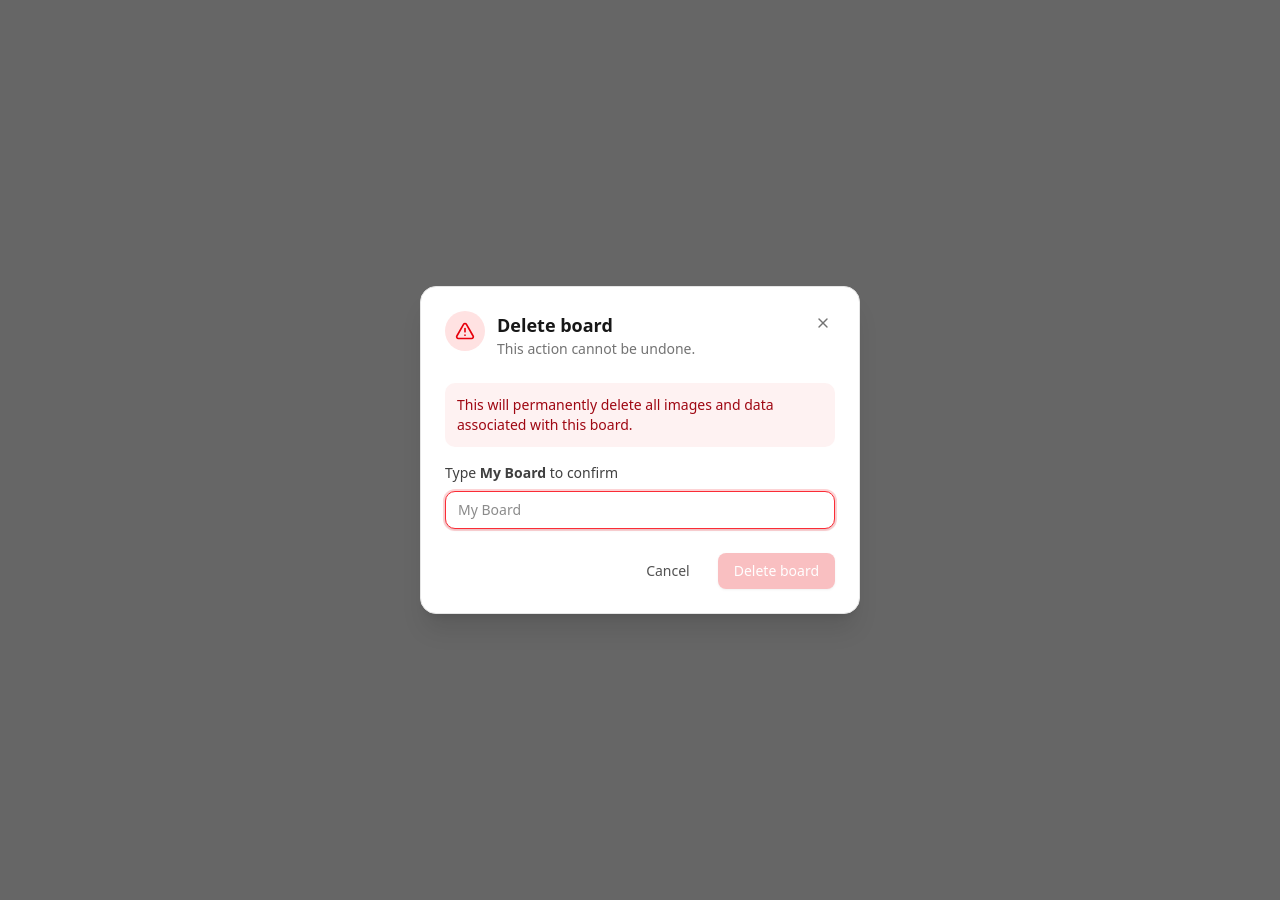
Test case: DeleteBoardDialog › trims whitespace when matching name
Type "  My Board  " into the field with placeholder "My Board" at point(640, 510), box [445,491,835,529]
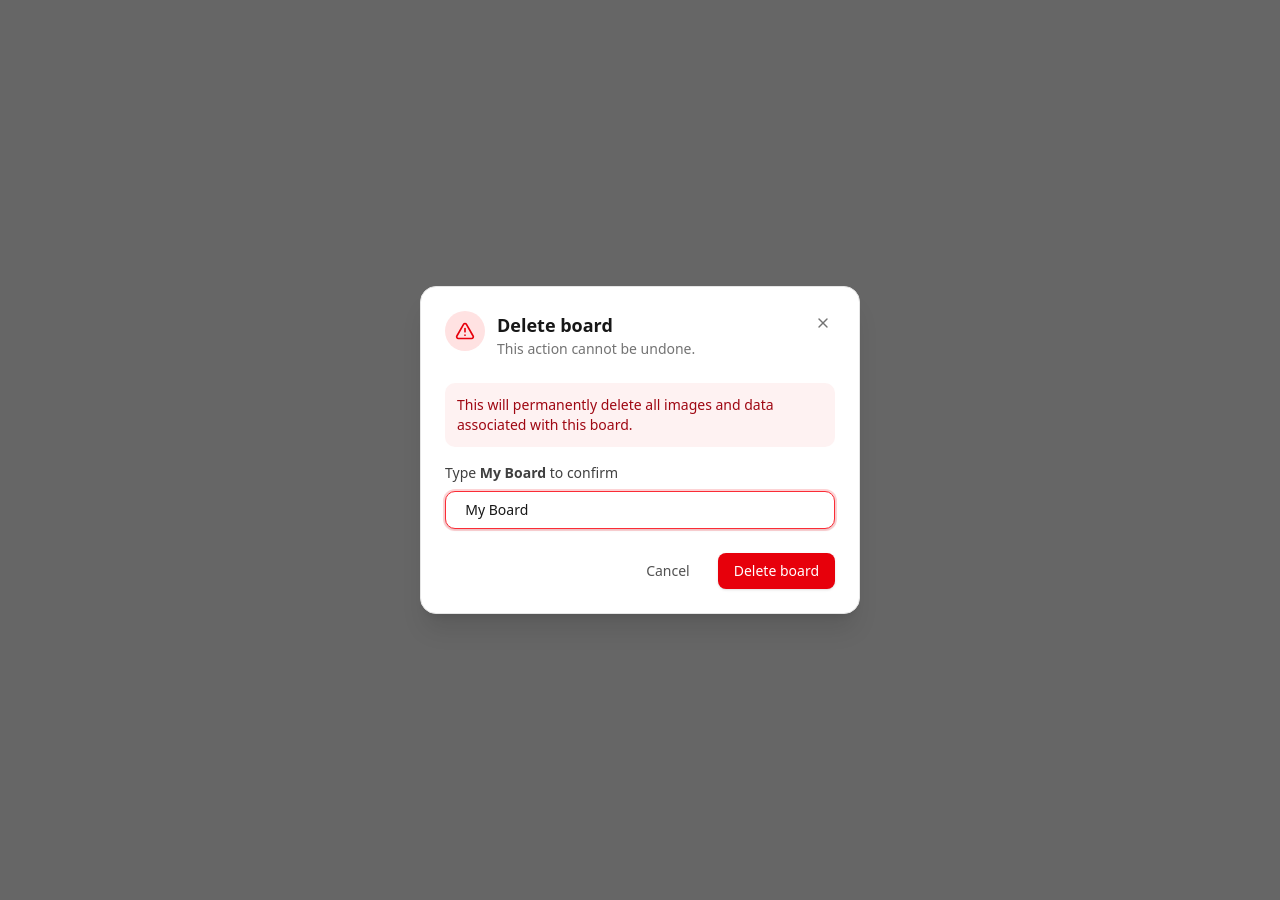
Now the button "Delete board" is enabled, box [718,553,835,589]
